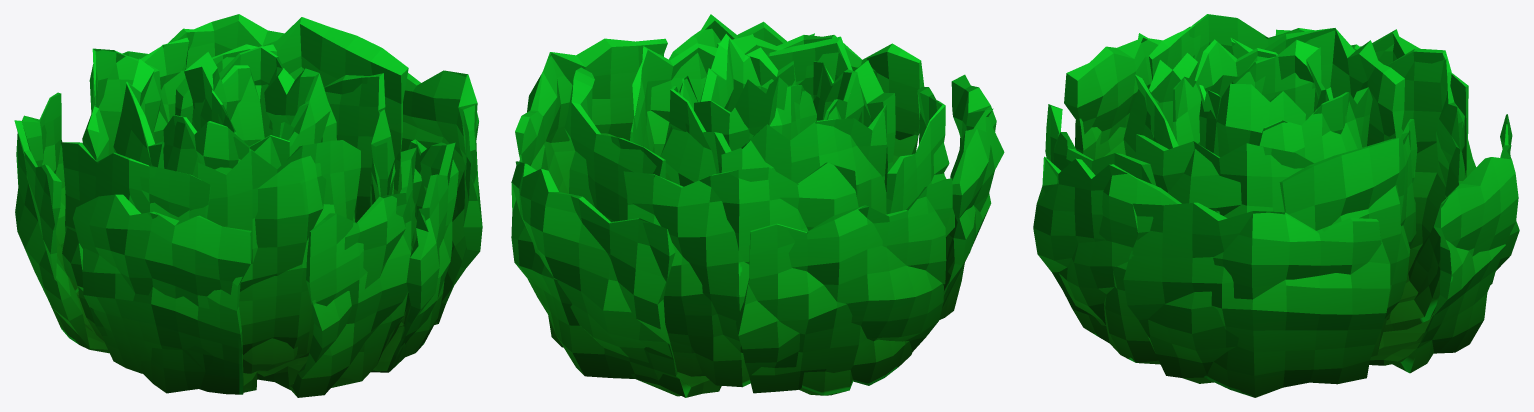
Rendered from LettuceHead.fbx.
3 views of the same model, side by side, from view 1: azimuth 30°, elevation 25°; view 2: azimuth 150°, elevation 25°; view 3: azimuth 270°, elevation 25° (orthographic). The views are drawn at different scales.
Visible parts, largest first — view 1: Lettuce Head.001; view 2: Lettuce Head.001; view 3: Lettuce Head.001.
Boxes of the visible parts, x1,y1,x2,y2 form: Lettuce Head.001: (14,14,482,397); Lettuce Head.001: (511,14,1004,397); Lettuce Head.001: (1033,14,1519,397).
Size of the model in its own units: 304 by 211 by 309.
